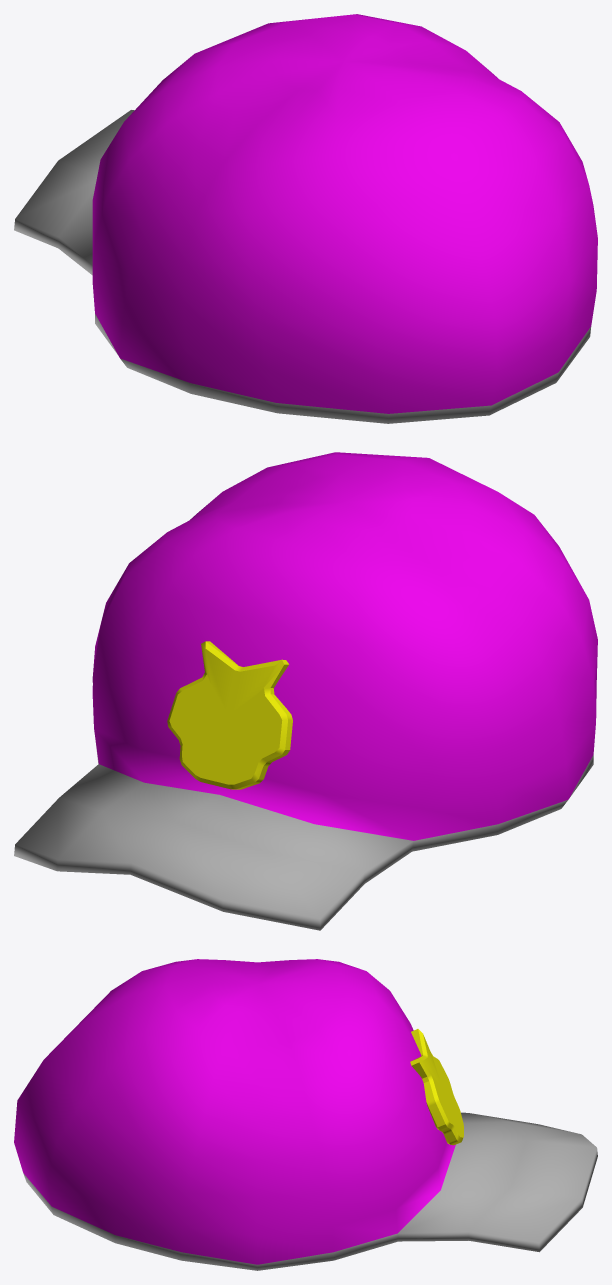
File: Hat.fbx
3 renders of one model, top to bottom at view 1: azimuth 30°, elevation 25°; view 2: azimuth 150°, elevation 25°; view 3: azimuth 270°, elevation 25°, orthographic. The views are drawn at different scales.
Parts seen in each view (by area): view 1: Hat; view 2: Hat; view 3: Hat.
Part boxes in pixels (box(x1,y1,x2,y2)): Hat: box(14, 14, 597, 423); Hat: box(14, 452, 597, 930); Hat: box(14, 959, 597, 1270).
Bounding box in the file's own units: 207 × 116 × 293.
